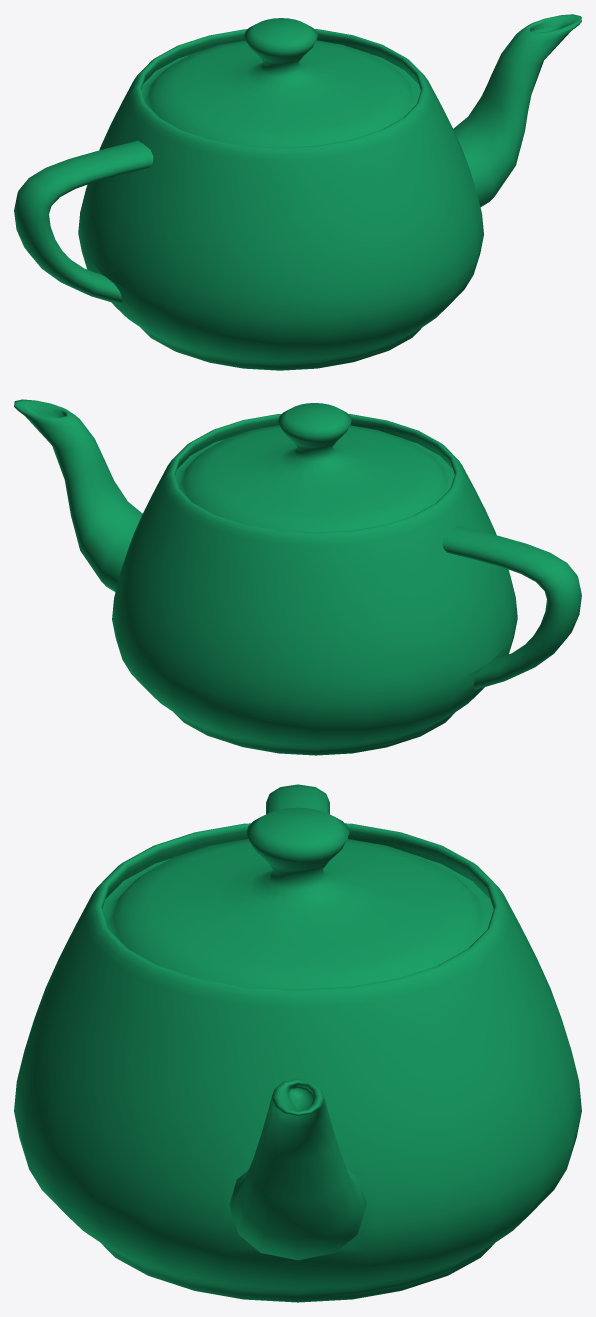
The model's file is teapot.obj.
3 renders of one model, top to bottom at view 1: azimuth 30°, elevation 25°; view 2: azimuth 150°, elevation 25°; view 3: azimuth 270°, elevation 25°, orthographic. The views are drawn at different scales.
Size of the model in its own units: 2.05 by 1.01 by 1.28.
